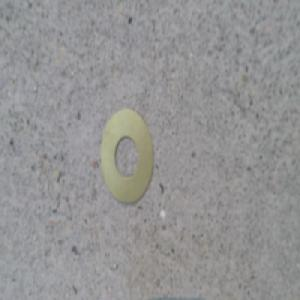Washer: (99, 106, 154, 203)
